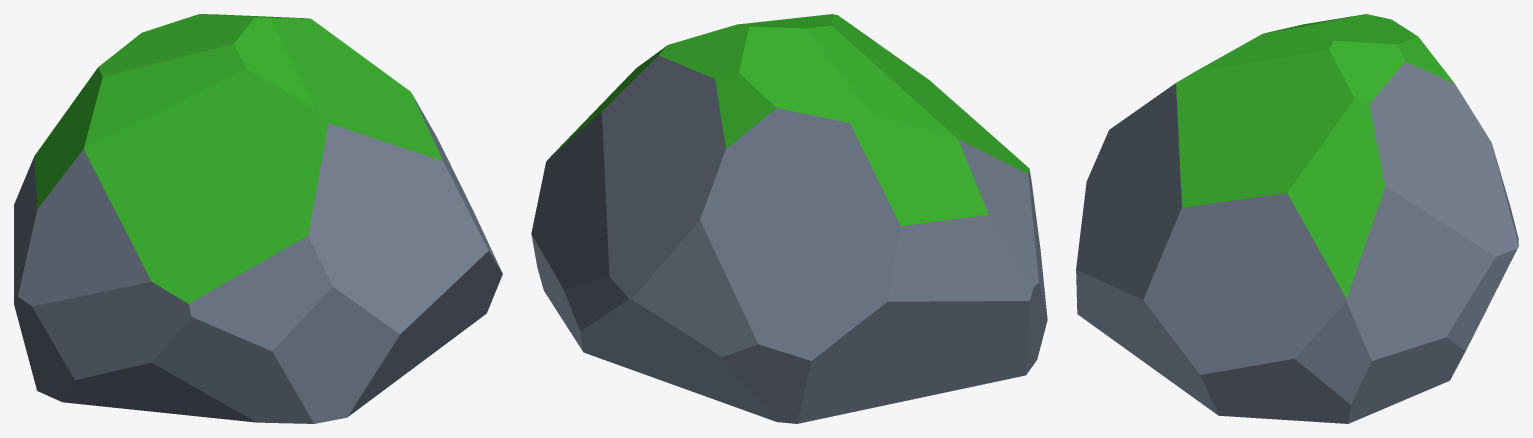
Rendered from MossyBoulderRock.fbx.
3 renders of one model, left to right at view 1: azimuth 30°, elevation 25°; view 2: azimuth 150°, elevation 25°; view 3: azimuth 270°, elevation 25°, orthographic. The views are drawn at different scales.
Visible parts, largest first — view 1: MossyBoulderRock; view 2: MossyBoulderRock; view 3: MossyBoulderRock.
Part boxes in pixels (box(x1,y1,x2,y2)): MossyBoulderRock: box(14, 14, 502, 423); MossyBoulderRock: box(531, 14, 1047, 423); MossyBoulderRock: box(1076, 14, 1518, 423).
Bounding box in the file's own units: 19.28 × 12 × 16.53.
